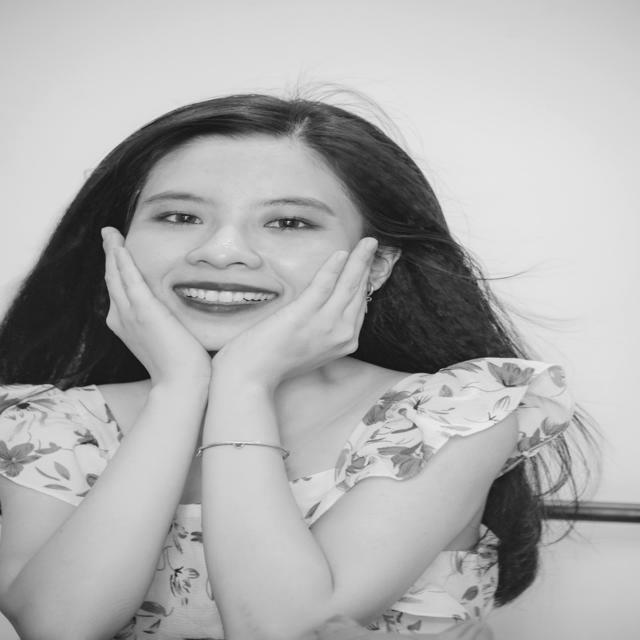Happiness: (130, 132, 362, 355)
